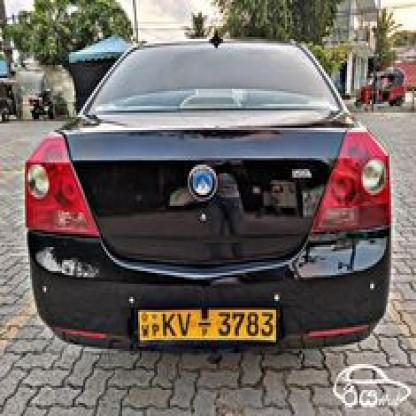car back: (28, 36, 392, 353)
number plate: (141, 304, 275, 339)
